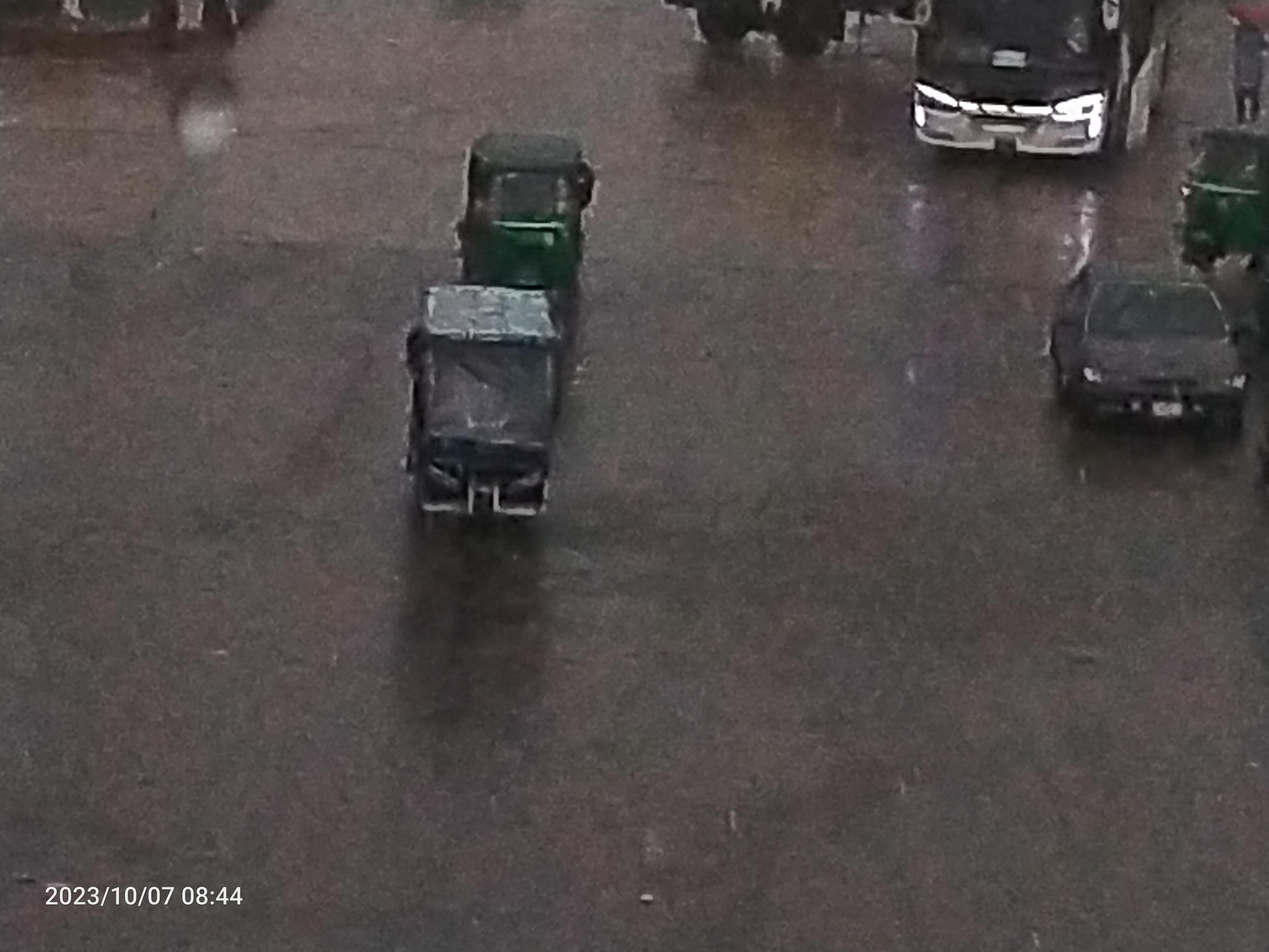Bus: (863, 0, 1210, 196)
Car: (390, 248, 598, 586), (1023, 229, 1269, 462)
